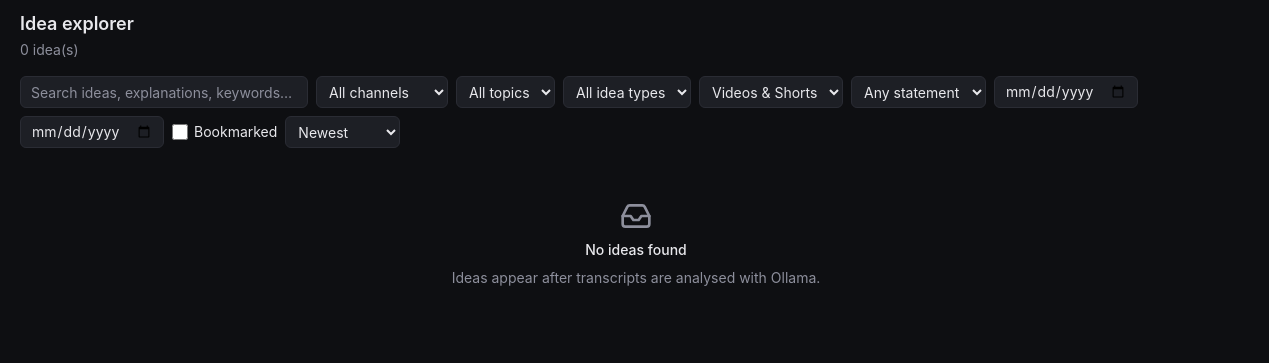
Test case: idea search › searches ideas and renders source-linked cards
The image size is (1269, 363).
Check: the text "No ideas found" is shown, box x1=585 y1=240 x2=687 y2=260
In the field labelled "Search ideas": (164, 92) x1=20 y1=76 x2=308 y2=108, type "interest"
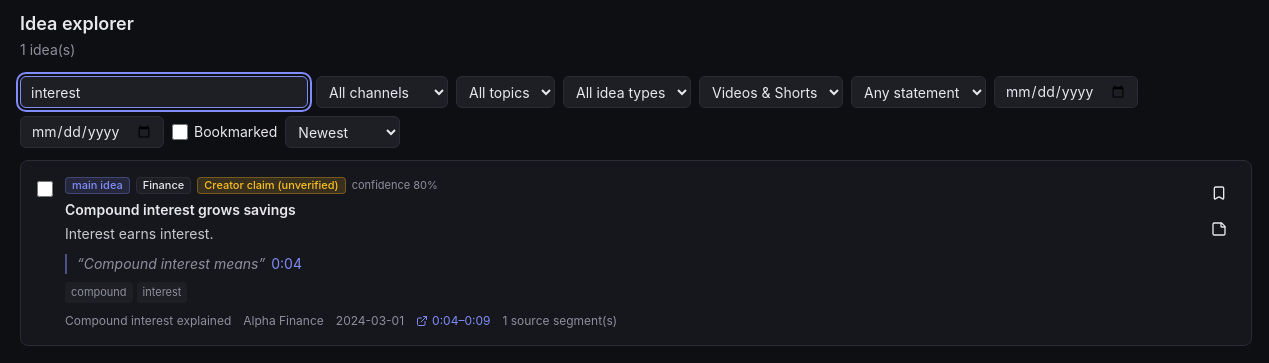
Check: the heading "Compound interest grows savings" is shown, box x1=65 y1=201 x2=296 y2=218
Check: the text "Creator claim (unverified)" is shown, box x1=197 y1=177 x2=346 y2=194
